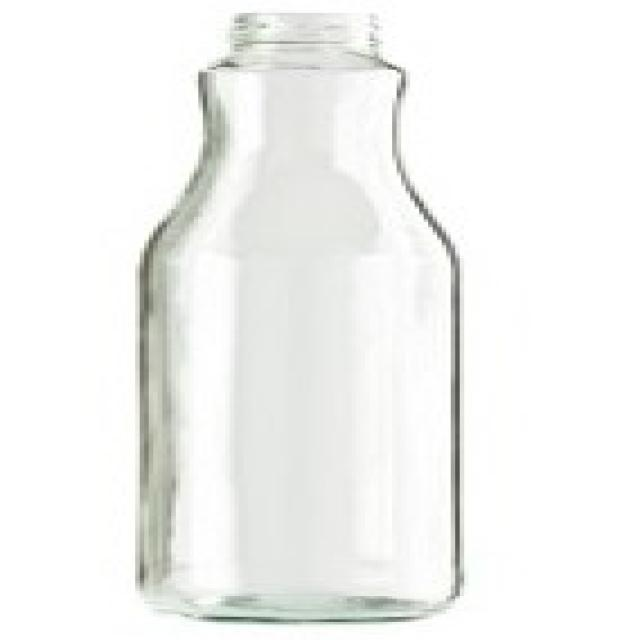electronic: (131, 15, 473, 628)
